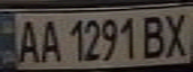1: (118, 13, 142, 60), (63, 16, 84, 62)
2: (81, 16, 103, 62)
9: (100, 15, 121, 62)
A: (12, 16, 42, 64), (36, 16, 63, 63)
B: (139, 11, 172, 58)
X: (160, 9, 193, 60)
